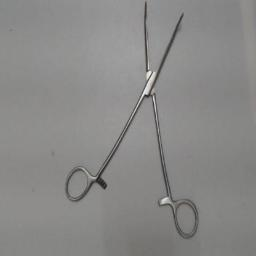Lahey Forceps: (62, 0, 202, 244)
